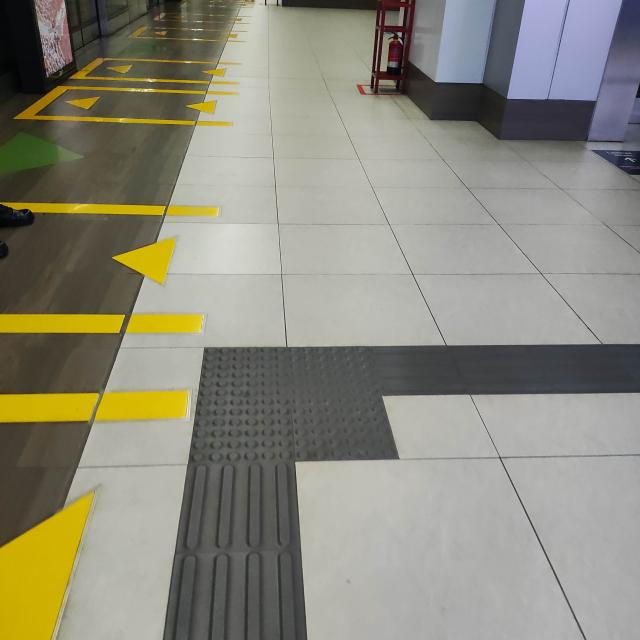kanan: (162, 328, 540, 497)
